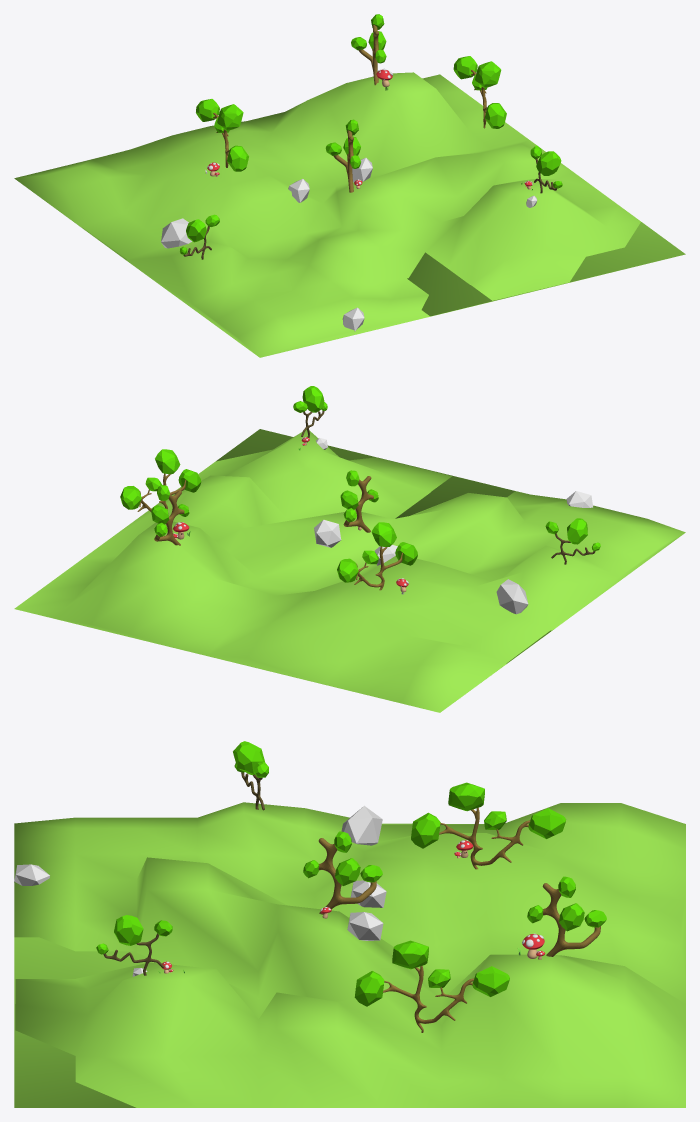
The model's file is arbol 1.fbx.
The picture shows the model from 3 angles, top to bottom: view 1: azimuth 30°, elevation 25°; view 2: azimuth 150°, elevation 25°; view 3: azimuth 270°, elevation 25°; orthographic projection. The views are drawn at different scales.
Parts seen in each view (by area): view 1: Plane, Icosphere.027, Icosphere.018, Icosphere; view 2: Plane, Icosphere.027, Icosphere.022, Vert.005; view 3: Plane, Icosphere.027, Vert.006, Vert, Vert.002, Vert.005, Icosphere.022, Icosphere, Icosphere.018, Icosphere.004, Icosphere.020, Icosphere.002 (+5 smaller).
Part boxes in pixels (x1,y1,x2,y2): Plane: (14,72,685,357); Icosphere.027: (161,218,192,248); Icosphere.018: (475,61,501,88); Icosphere: (217,104,243,130); Plane: (14,429,685,712); Icosphere.027: (496,579,528,614); Icosphere.022: (314,519,341,547); Vert.005: (343,476,373,532); Plane: (14,802,685,1107); Icosphere.027: (341,805,382,845); Vert.006: (383,965,474,1032); Vert: (439,807,530,869); Vert.002: (542,883,600,956); Vert.005: (318,838,376,914); Icosphere.022: (347,912,383,940); Icosphere: (448,782,484,811); Icosphere.018: (392,940,428,969); Icosphere.004: (528,808,565,838); Icosphere.020: (472,966,509,996); Icosphere.002: (411,812,440,848).
Bounding box in the file's own units: 3090 × 845 × 3092.
